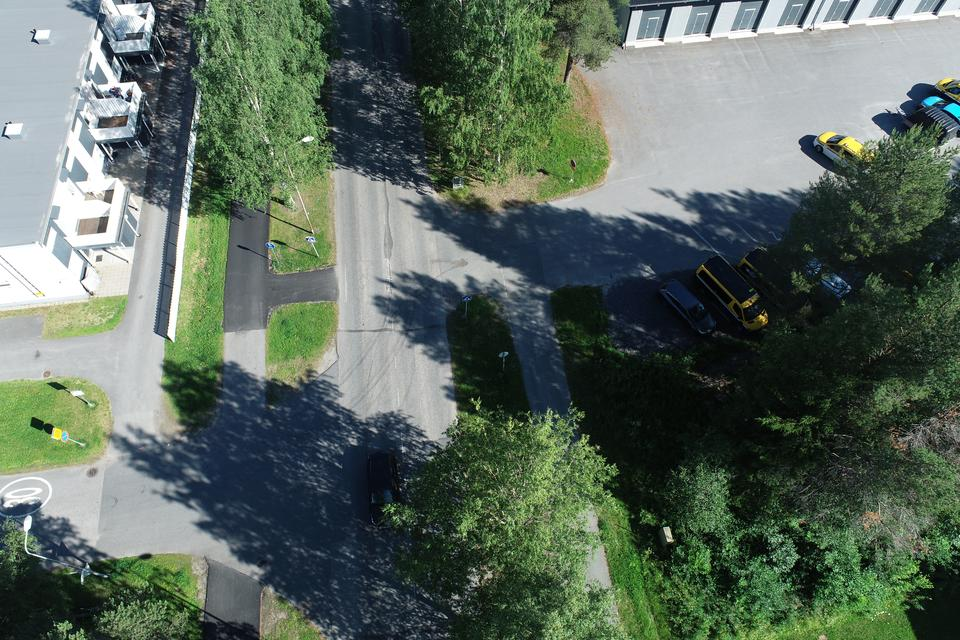intersection: (168, 396, 319, 600), (208, 249, 327, 340)
